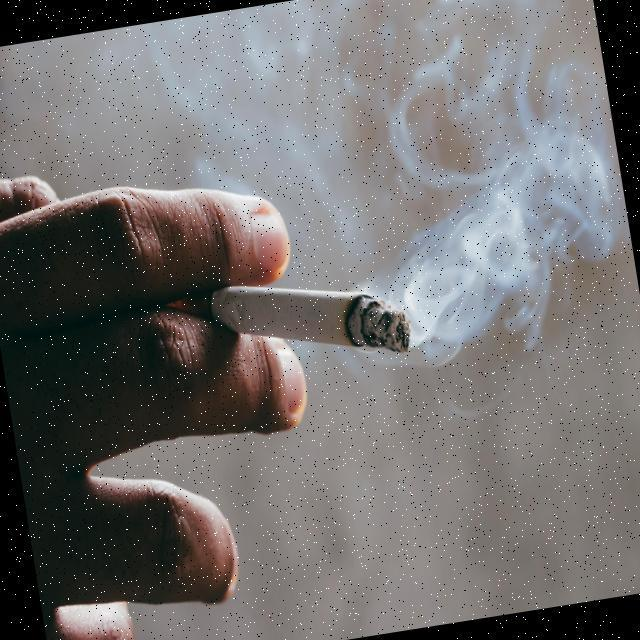cigarette: (197, 248, 416, 392)
